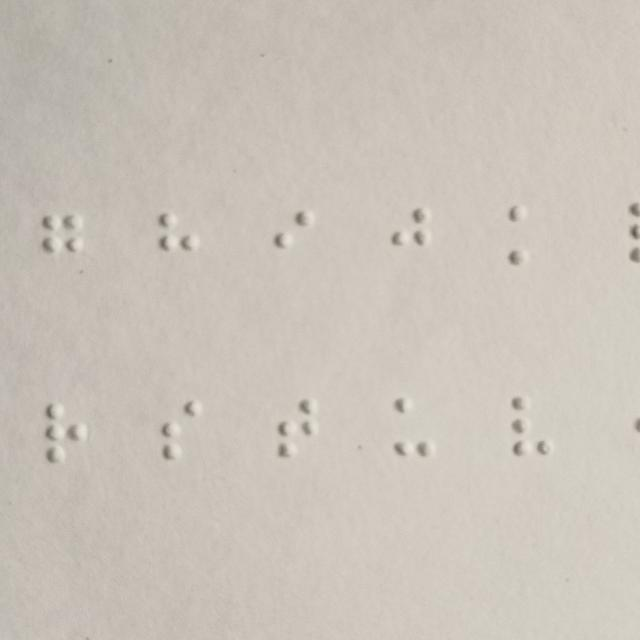letter_g: (39, 215, 82, 275)
letter_h: (157, 214, 200, 274)
letter_i: (275, 210, 314, 270)
letter_j: (389, 206, 428, 266)
letter_k: (506, 205, 545, 265)
letter_r: (45, 404, 87, 464)
letter_s: (162, 399, 205, 459)
letter_t: (276, 400, 319, 460)
letter_u: (393, 399, 435, 459)
letter_v: (512, 396, 555, 456)
